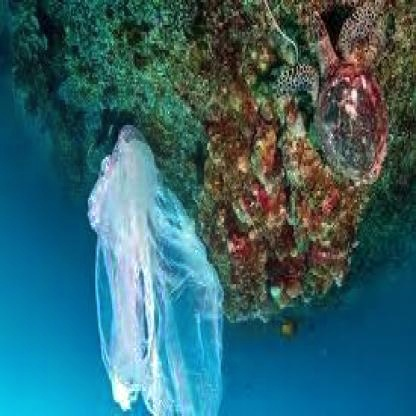pbag: (79, 118, 230, 416)
